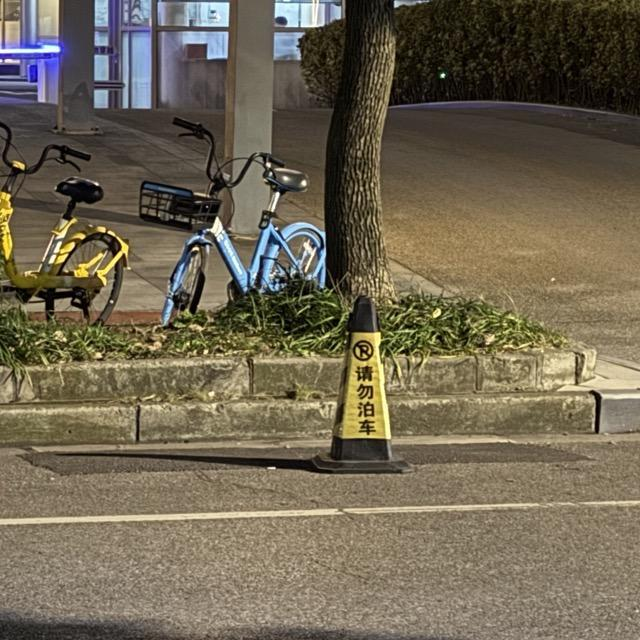curb: (0, 398, 334, 445), (17, 356, 341, 402), (391, 101, 639, 145), (393, 391, 594, 436), (412, 351, 574, 394), (590, 390, 639, 433), (575, 348, 596, 384)
